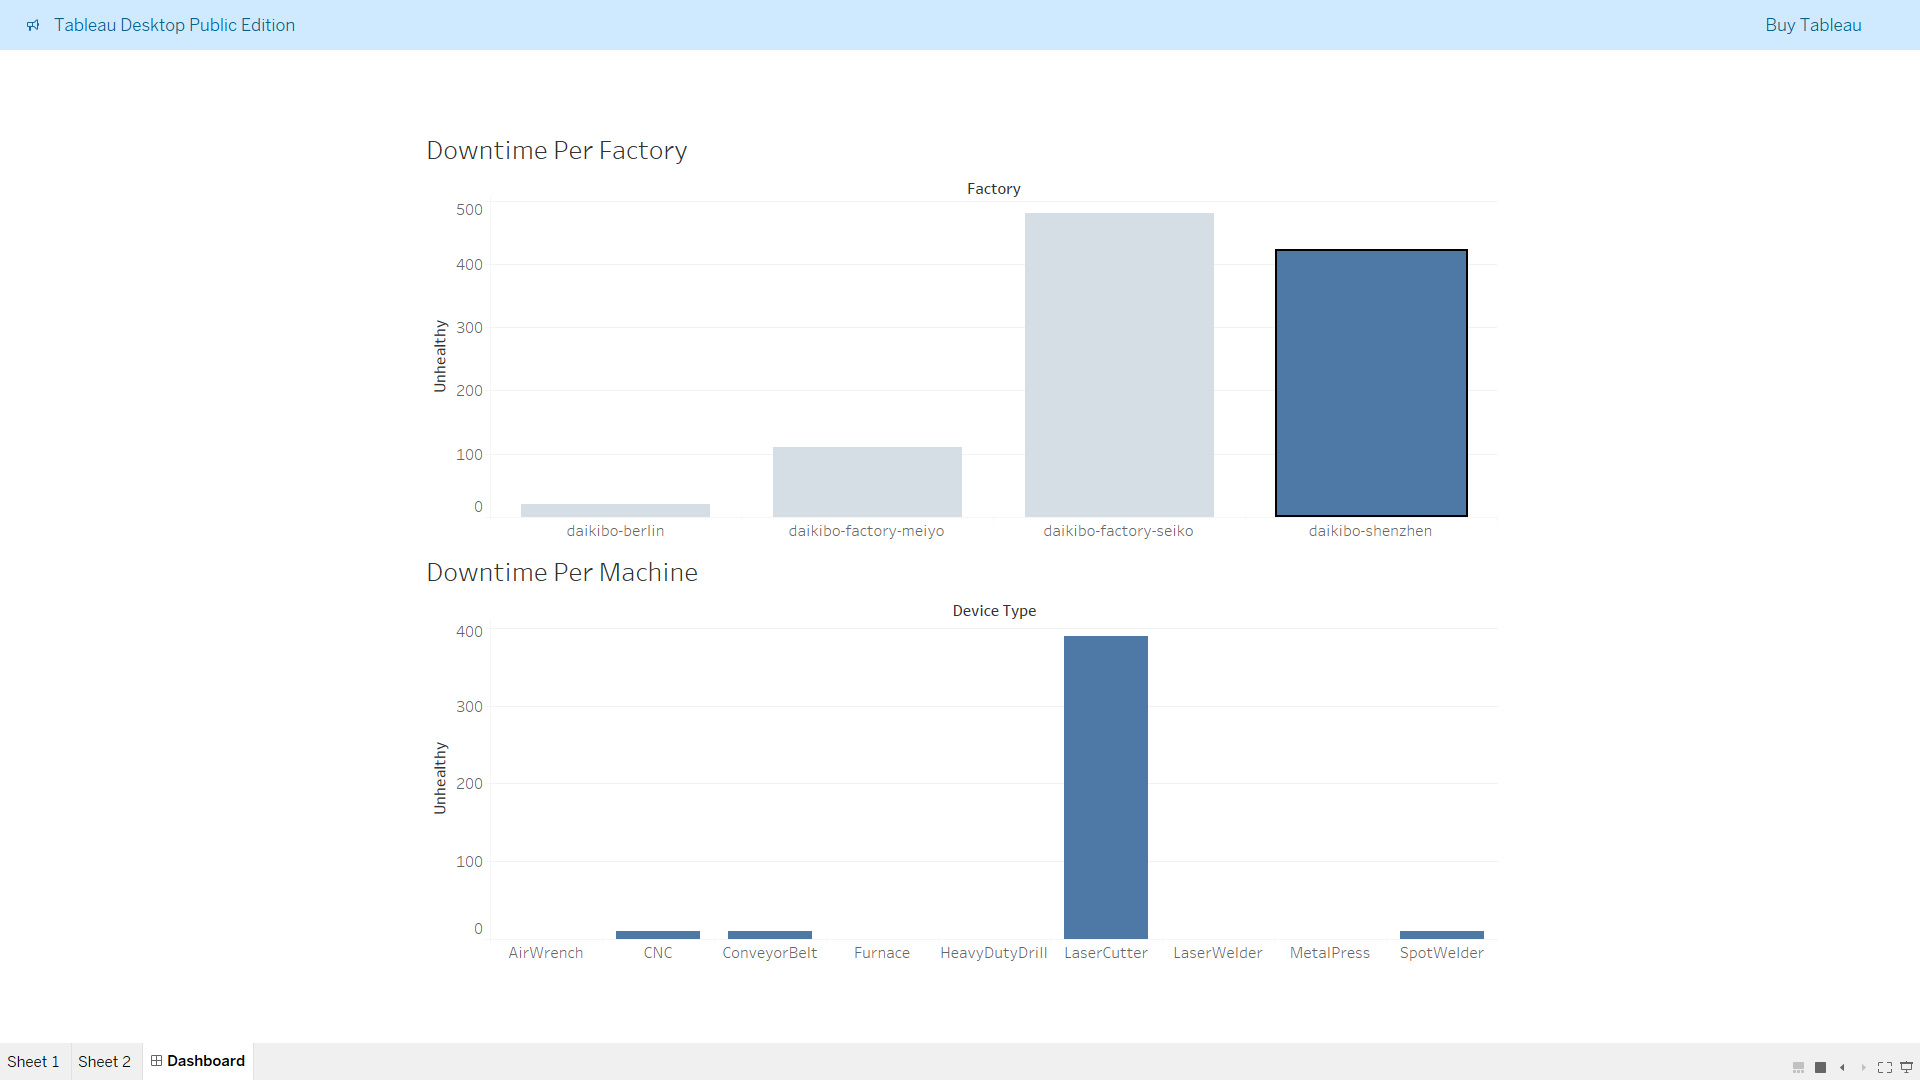

Layout of this report page (visuals, bound fields, positions):
{"tool":"tableau","page":{"name":"Dashboard","canvas":[1000,1000],"units":"permille","ordinal":0},"visuals":[{"type":"worksheet","title":"Sheet 1","mark":"Automatic","rows":["Calculation_2019582999613956096"],"cols":["factory"],"box":[7.3,10,985.5,489.9]},{"type":"worksheet","title":"Sheet 2","mark":"Automatic","rows":["Calculation_2019582999613956096"],"cols":["deviceType"],"box":[7.3,499.9,985.5,490.1]}]}

Visuals, with their boxes on the dashboard's canvas, which has no fixed pixel size, in thousandths of its width and height (x1, y1, x2, y2). These are canvas units, not pixel positions in the 1920x1080 screenshot, which may show the page scaled, cropped or inside an application window:
"Sheet 1" worksheet: <box>7,10,993,500</box>
"Sheet 2" worksheet: <box>7,500,993,990</box>
